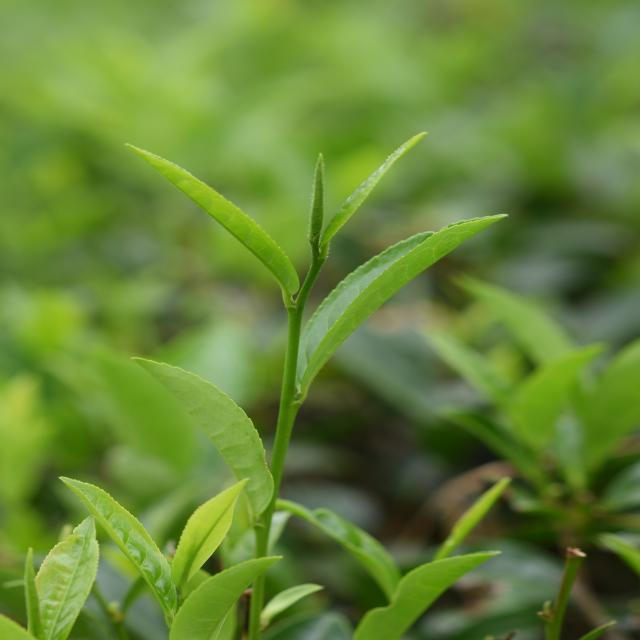Stem: (289, 304, 300, 319)
